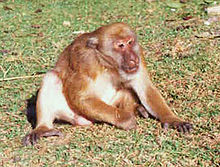monkey: (25, 17, 201, 148)
